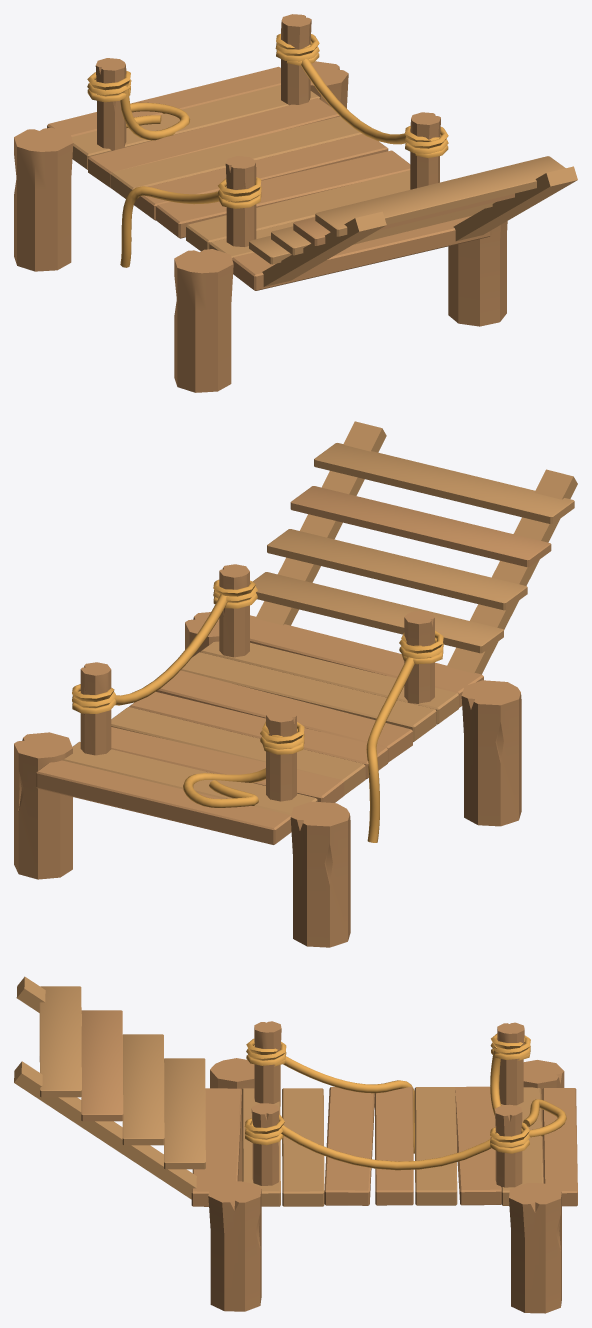
File: SM_Pier_01.fbx
3 views of the same model, one above another, from view 1: azimuth 30°, elevation 25°; view 2: azimuth 150°, elevation 25°; view 3: azimuth 270°, elevation 25° (orthographic). The views are drawn at different scales.
Parts seen in each view (by area): view 1: Cylinder.029, Column_02.016, Cube.060, Cube.059; view 2: Cylinder.029, Column_02.016, Cube.059, Cube.060; view 3: Cylinder.029, Column_02.016, Cube.060, Cube.059.
Boxes of the visible parts, bbox=[...] form: Cylinder.029: bbox=[14, 14, 565, 392]; Column_02.016: bbox=[87, 33, 448, 267]; Cube.060: bbox=[453, 166, 577, 241]; Cube.059: bbox=[262, 211, 386, 286]; Cylinder.029: bbox=[14, 443, 574, 947]; Column_02.016: bbox=[72, 579, 443, 842]; Cube.059: bbox=[447, 469, 577, 674]; Cube.060: bbox=[255, 421, 386, 625]; Cylinder.029: bbox=[39, 986, 577, 1313]; Column_02.016: bbox=[244, 1033, 566, 1170]; Cube.060: bbox=[14, 1061, 196, 1199]; Cube.059: bbox=[16, 976, 81, 1025].
Size of the model in its own units: 7.35 by 5.11 by 11.97.
